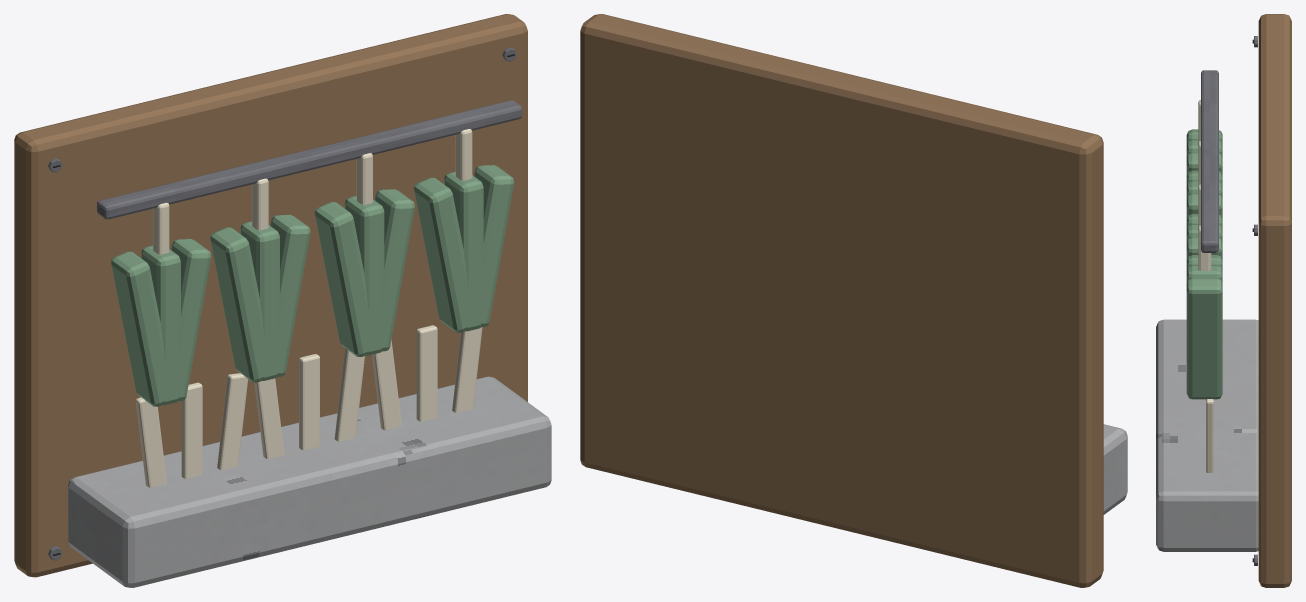
Rendered from lbd_bot_label_station.glb.
3 renders of one model, left to right at view 1: azimuth 30°, elevation 25°; view 2: azimuth 150°, elevation 25°; view 3: azimuth 270°, elevation 25°, orthographic. The views are drawn at different scales.
Visible parts, largest first — view 1: bot_label_station__mount_003, bot_label_station__label bin_073, bot_label_station__drying bar_022, bot_label_station__dried sprig_040, bot_label_station__dried sprig_028, bot_label_station__dried sprig_064, bot_label_station__dried sprig_052, bot_label_station__dried sprig_046, bot_label_station__dried sprig_070, bot_label_station__dried sprig_034, bot_label_station__dried sprig_058, bot_label_station__dried sprig_031 (+16 smaller); view 2: bot_label_station__mount_003, bot_label_station__label bin_073; view 3: bot_label_station__label bin_073, bot_label_station__mount_003, bot_label_station__dried sprig_070, bot_label_station__drying bar_022, bot_label_station__label stake_100, bot_label_station__dried sprig_067, bot_label_station__dried sprig_046, bot_label_station__tie_061, bot_label_station__dried sprig_058, bot_label_station__dried sprig_034, bot_label_station__dried sprig_064, bot_label_station__dried sprig_055 (+2 smaller).
Part boxes in pixels (x1,y1,x2,y2): bot_label_station__mount_003: [14, 14, 527, 577]; bot_label_station__label bin_073: [68, 376, 551, 587]; bot_label_station__drying bar_022: [97, 100, 522, 219]; bot_label_station__dried sprig_040: [210, 227, 270, 382]; bot_label_station__dried sprig_028: [111, 251, 171, 406]; bot_label_station__dried sprig_064: [414, 177, 474, 332]; bot_label_station__dried sprig_052: [314, 202, 372, 356]; bot_label_station__dried sprig_046: [270, 214, 310, 376]; bot_label_station__dried sprig_070: [474, 165, 513, 327]; bot_label_station__dried sprig_034: [171, 239, 211, 400]; bot_label_station__dried sprig_058: [375, 189, 414, 351]; bot_label_station__dried sprig_031: [141, 245, 180, 405]; bot_label_station__mount_003: [580, 14, 1103, 587]; bot_label_station__label bin_073: [1103, 424, 1127, 514]; bot_label_station__label bin_073: [1156, 319, 1258, 551]; bot_label_station__mount_003: [1258, 14, 1291, 587]; bot_label_station__dried sprig_070: [1186, 278, 1222, 399]; bot_label_station__drying bar_022: [1201, 70, 1218, 252]; bot_label_station__label stake_100: [1206, 399, 1213, 472]; bot_label_station__dried sprig_067: [1186, 266, 1222, 283]; bot_label_station__dried sprig_046: [1186, 193, 1222, 218]; bot_label_station__tie_061: [1198, 225, 1211, 270]; bot_label_station__dried sprig_058: [1186, 237, 1222, 259]; bot_label_station__dried sprig_034: [1186, 152, 1222, 175]; bot_label_station__dried sprig_064: [1186, 255, 1222, 270]; bot_label_station__dried sprig_055: [1186, 224, 1222, 242].
Bounding box in the file's own units: 0.96 × 0.8 × 0.265.
Materials: 6 (3 with a texture image).
